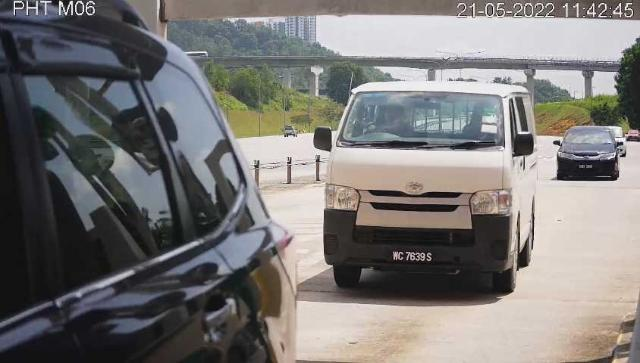License_Plate: (390, 247, 437, 267)
van: (325, 82, 539, 294)
